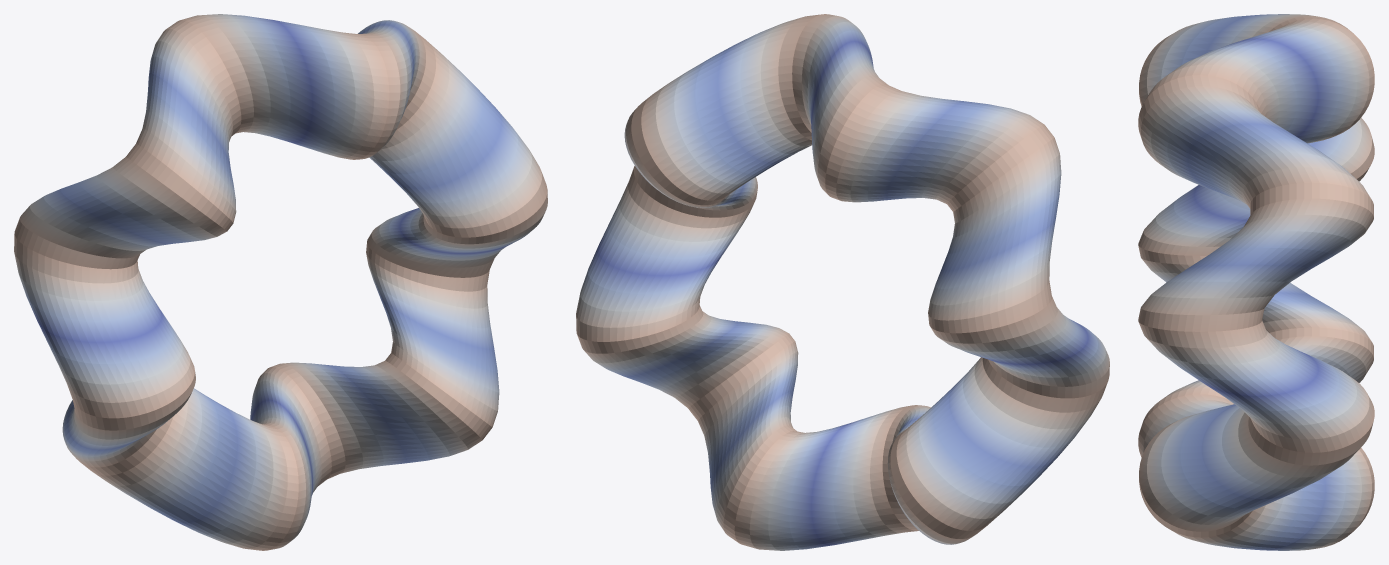
File: step_13.glb
3 views of the same model, side by side, from view 1: azimuth 30°, elevation 25°; view 2: azimuth 150°, elevation 25°; view 3: azimuth 270°, elevation 25° (orthographic).
Visible parts, largest first — view 1: world; view 2: world; view 3: world.
Part boxes in pixels (left/top/right/bottom): world: left=14, top=14, right=547, bottom=550; world: left=576, top=14, right=1109, bottom=550; world: left=1138, top=14, right=1374, bottom=550.
Size of the model in its own units: 26 by 26 by 11.45.
